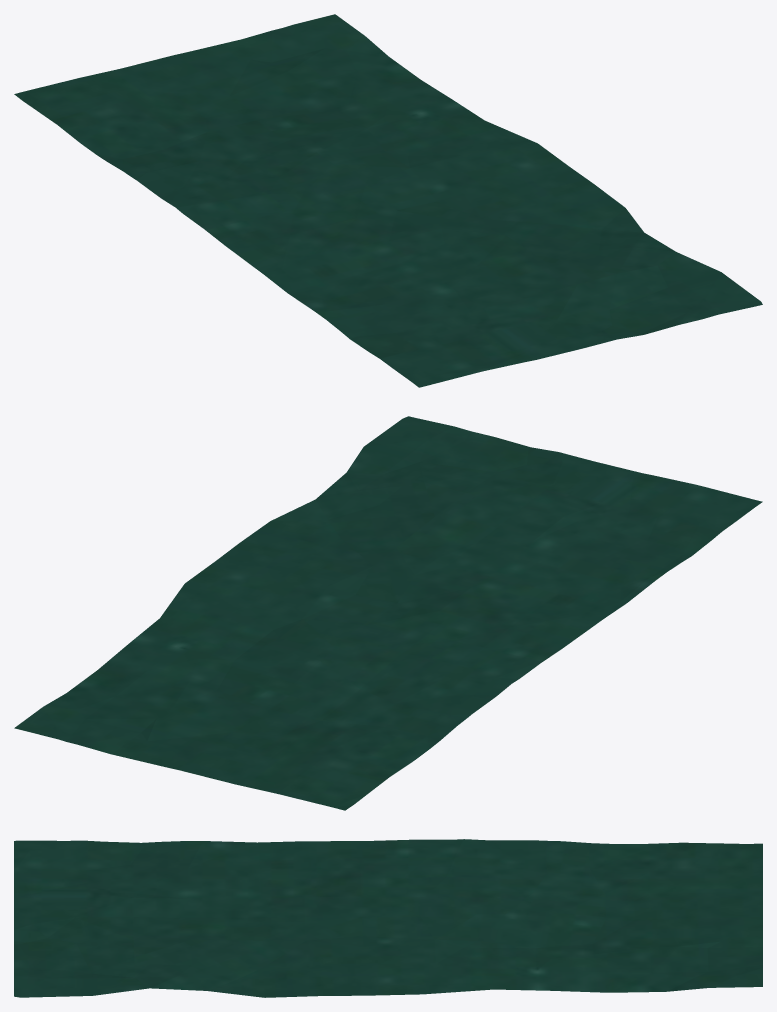
The picture shows the model from 3 angles, top to bottom: view 1: azimuth 30°, elevation 25°; view 2: azimuth 150°, elevation 25°; view 3: azimuth 270°, elevation 25°; orthographic projection. The views are drawn at different scales.
Bounding box in the file's own units: 25.73 × 0.6192 × 52.22.
1 material, 1 textured.
